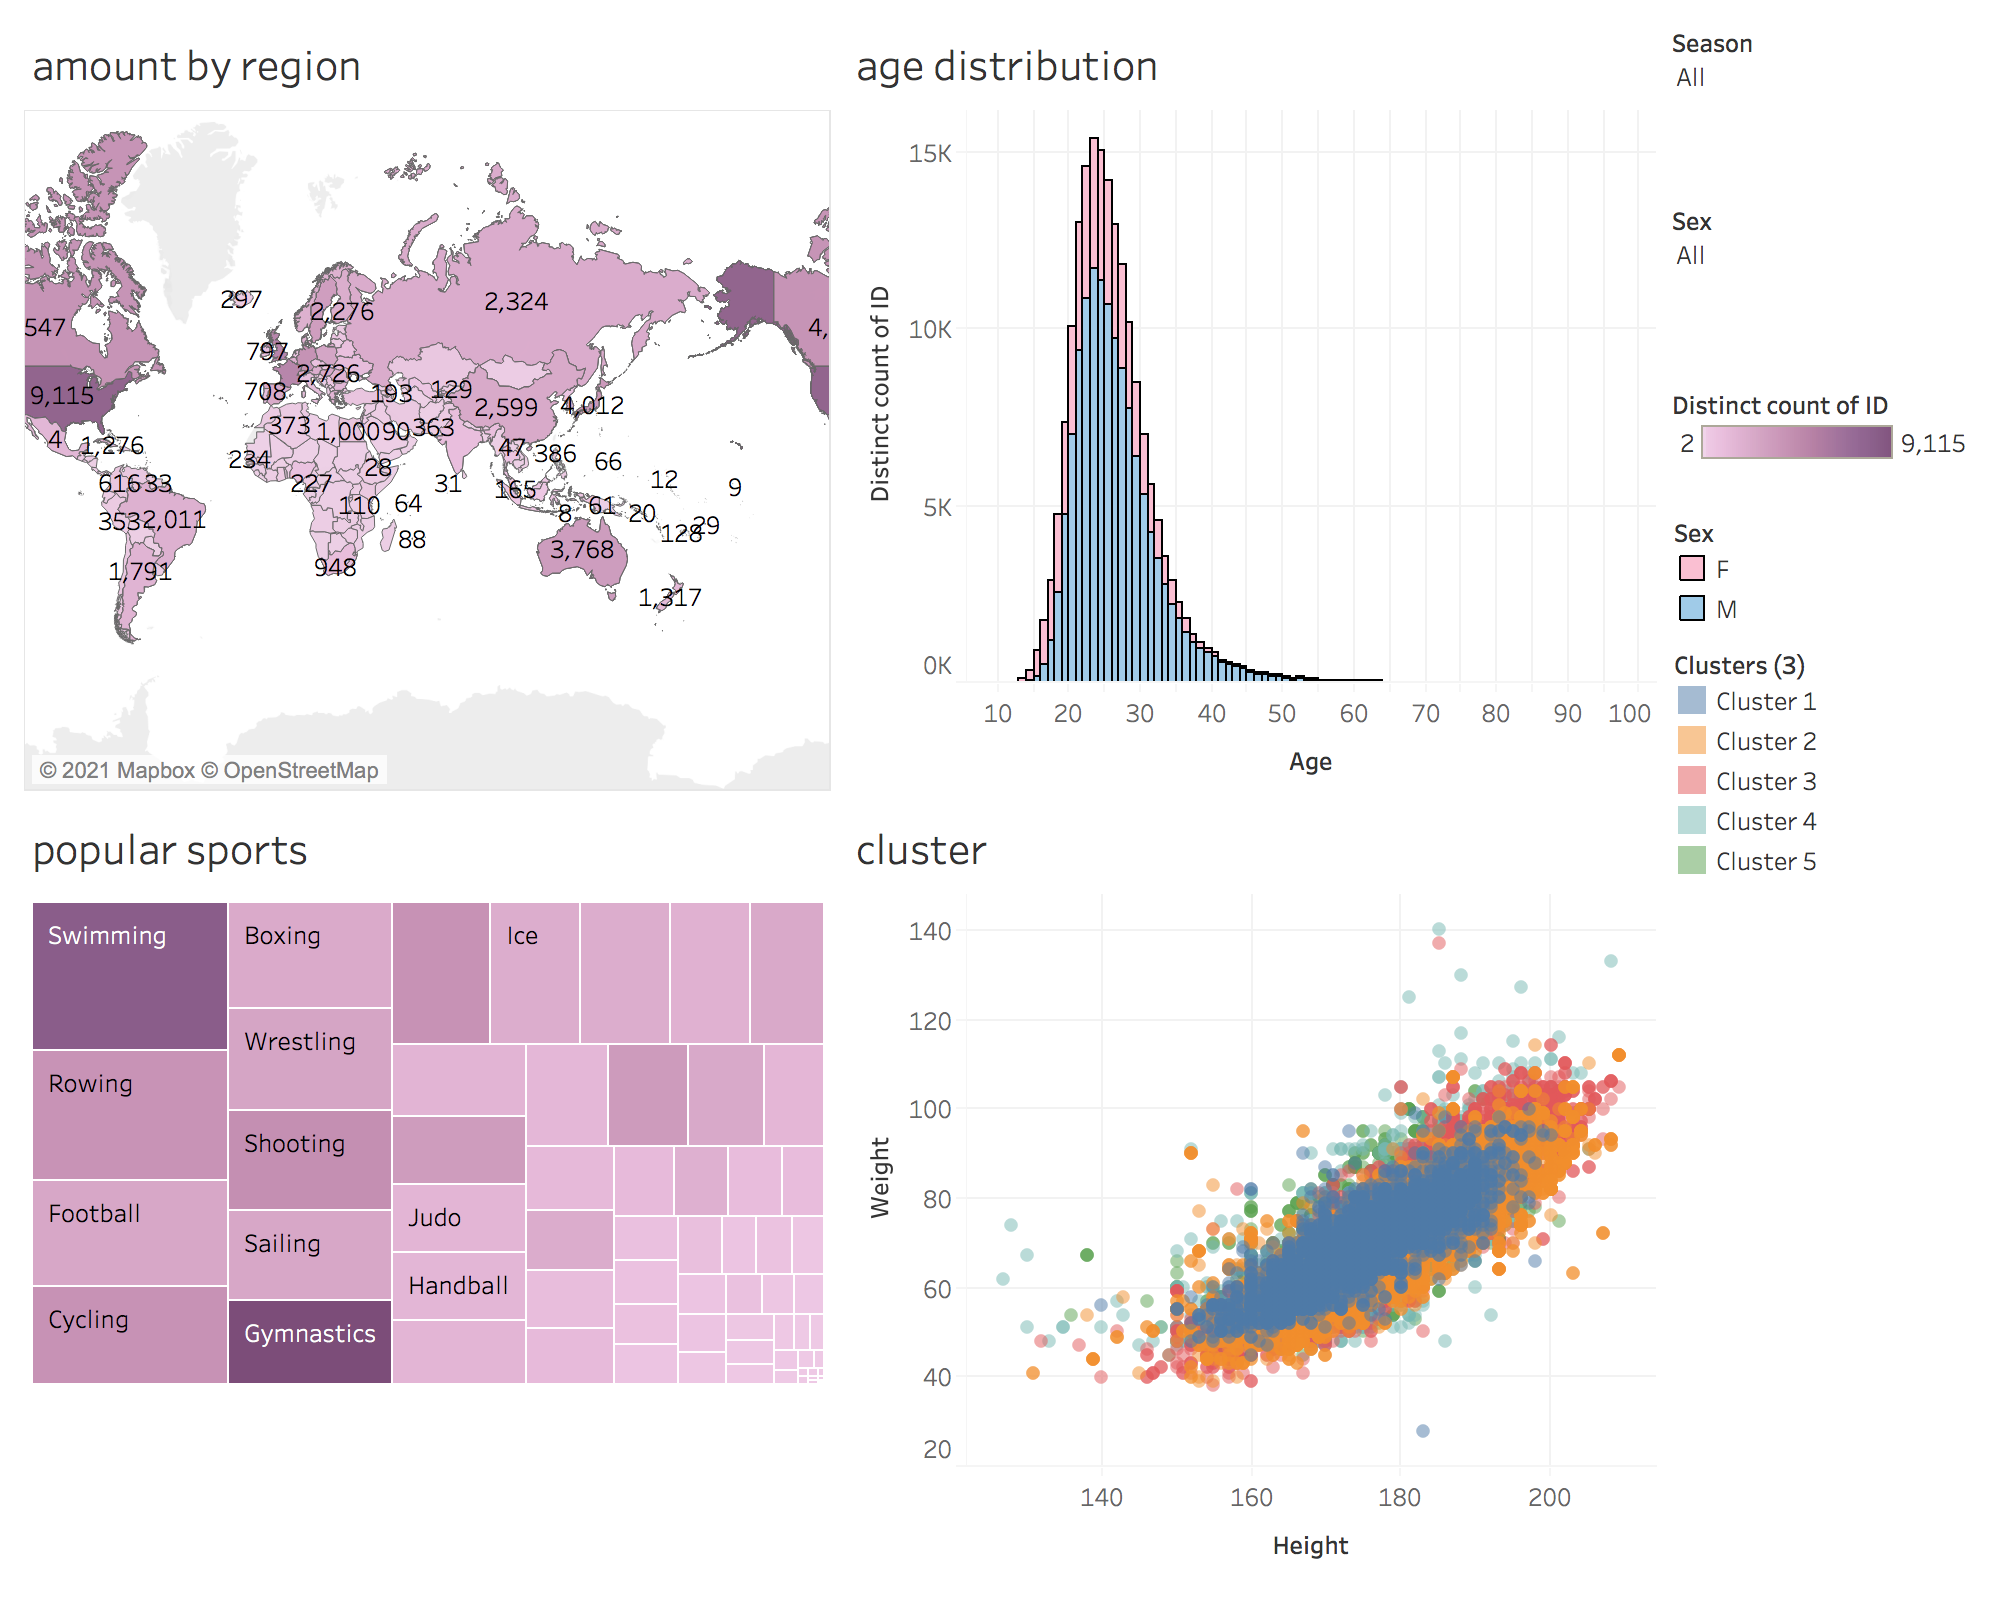

This screenshot's page, from the dashboard's own definition file:
{"tool":"tableau","page":{"name":"other insight","canvas":[1000,800],"ordinal":2},"visuals":[{"type":"worksheet","title":"amount by region","mark":"Multipolygon","box":[8,8,412,392]},{"type":"worksheet","title":"age distribution","mark":"Bar","rows":["ID"],"cols":["Age"],"box":[420,8,412,392]},{"type":"filter","title":"amount by region","param":"[federated.18bi9qd1os8sq51epjqoa1im3gv3].[none:Season:nk]","box":[832,8,160,89]},{"type":"filter","title":"amount by region","param":"[federated.18bi9qd1os8sq51epjqoa1im3gv3].[none:Sex:nk]","box":[832,97,160,89]},{"type":"legend","title":"amount by region","param":"[federated.18bi9qd1os8sq51epjqoa1im3gv3].[ctd:ID:qk]","box":[832,186,160,65]},{"type":"legend","title":"age distribution","param":"[federated.18bi9qd1os8sq51epjqoa1im3gv3].[none:Sex:nk]","box":[832,251,160,66]},{"type":"legend","title":"cluster","param":"[federated.18bi9qd1os8sq51epjqoa1im3gv3].[none:AdhocCluster:4:ok]","box":[832,317,160,126]},{"type":"worksheet","title":"popular sports","mark":"Automatic","box":[8,400,412,392]},{"type":"worksheet","title":"cluster","mark":"Shape","rows":["Weight"],"cols":["Height"],"box":[420,400,412,392]}]}

Visuals, with their boxes in screenshot pixels (x1, y1, x2, y2), scaled from the page's 1000x800 canvas onto the 2000x1600 screenshot:
"amount by region" worksheet (Multipolygon marks): left=16, top=16, right=840, bottom=800
"age distribution" worksheet (Bar marks): left=840, top=16, right=1664, bottom=800
"amount by region" filter: left=1664, top=16, right=1984, bottom=194
"amount by region" filter: left=1664, top=194, right=1984, bottom=372
"amount by region" legend: left=1664, top=372, right=1984, bottom=502
"age distribution" legend: left=1664, top=502, right=1984, bottom=634
"cluster" legend: left=1664, top=634, right=1984, bottom=886
"popular sports" worksheet: left=16, top=800, right=840, bottom=1584
"cluster" worksheet (Shape marks): left=840, top=800, right=1664, bottom=1584
